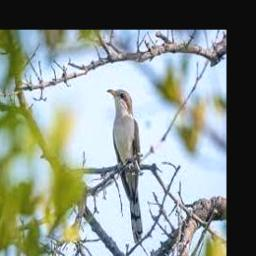Cuckoo: (106, 88, 143, 243)
